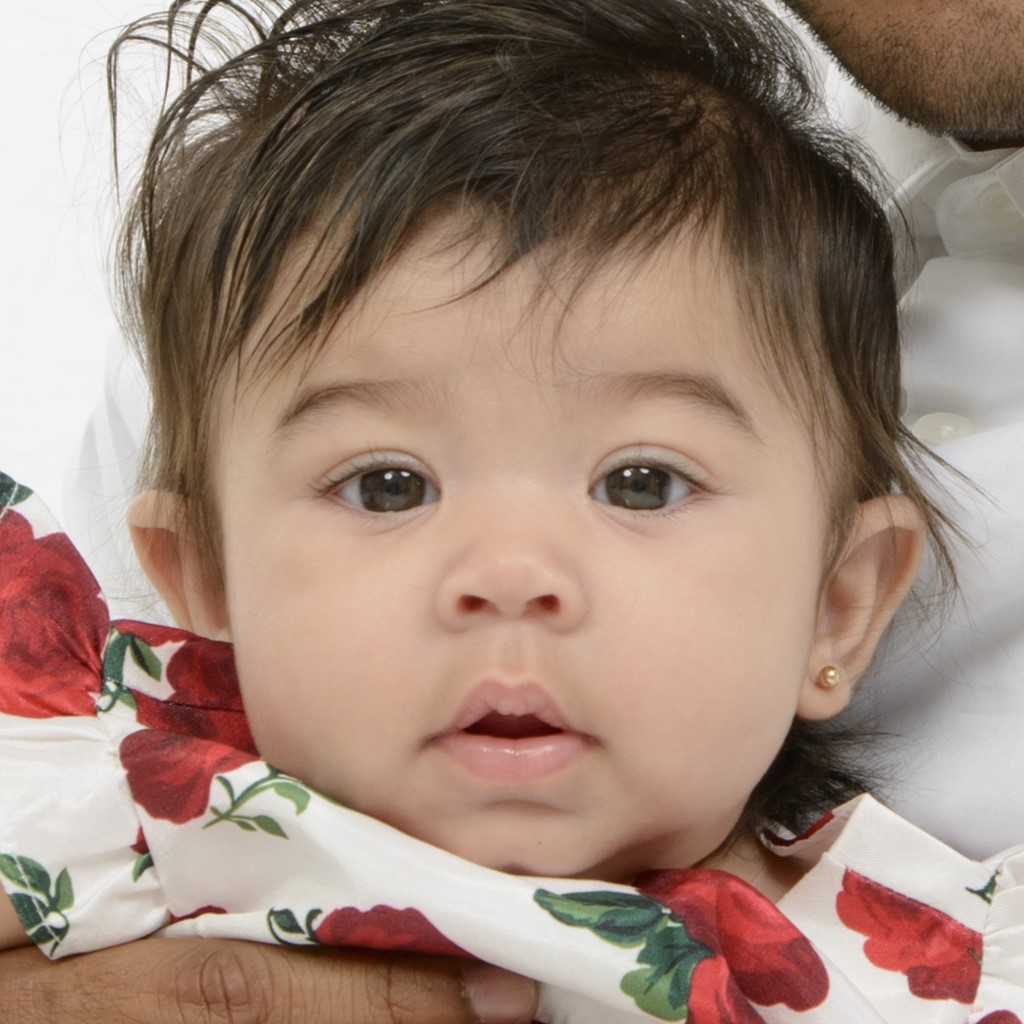sin_mascara: (200, 113, 833, 892)
